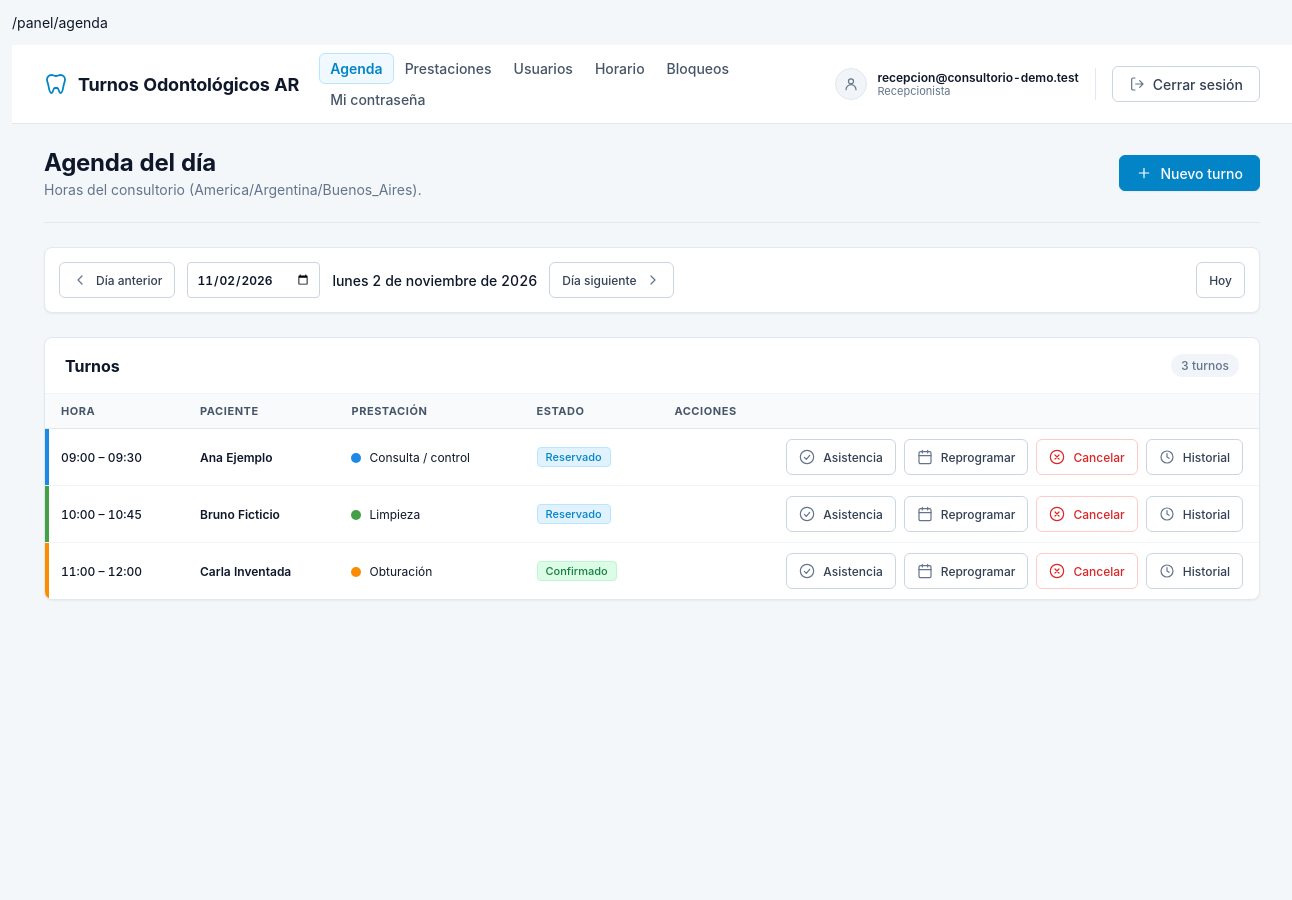
it: PanelCancelar: bordes › CAN-4b: la recarga falla después del 200
The image size is (1292, 900).
expect the text "lunes 2 de noviembre de 2026" is shown: met, box [332,272,537,288]
Click the button with aria-label "Cancelar el turno de Bruno Ficticio, 10:00".
click(1087, 514)  # box [1036,496,1138,532]
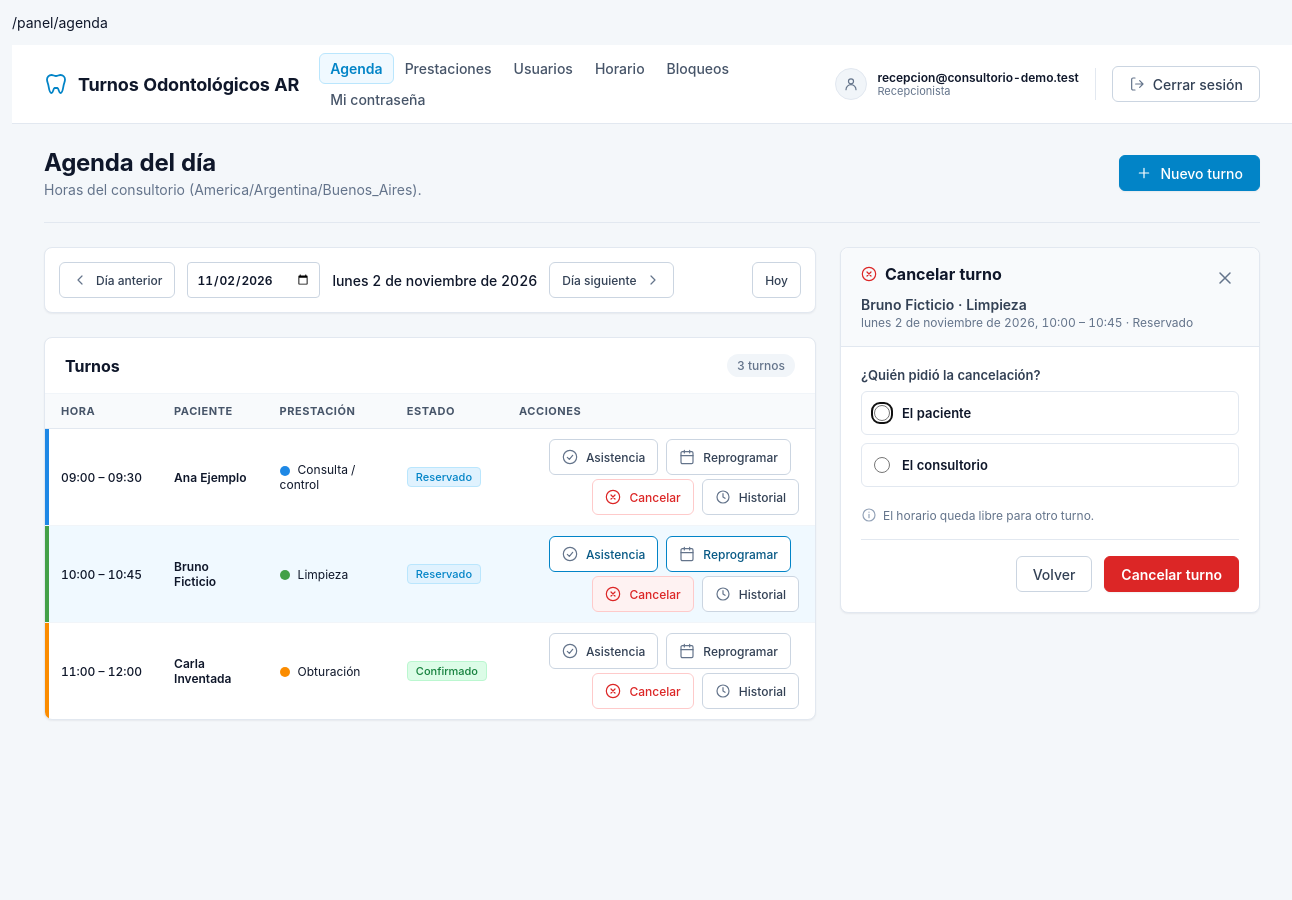
Click the radio button labelled "El paciente".
click(882, 413)  # box [874,405,890,421]
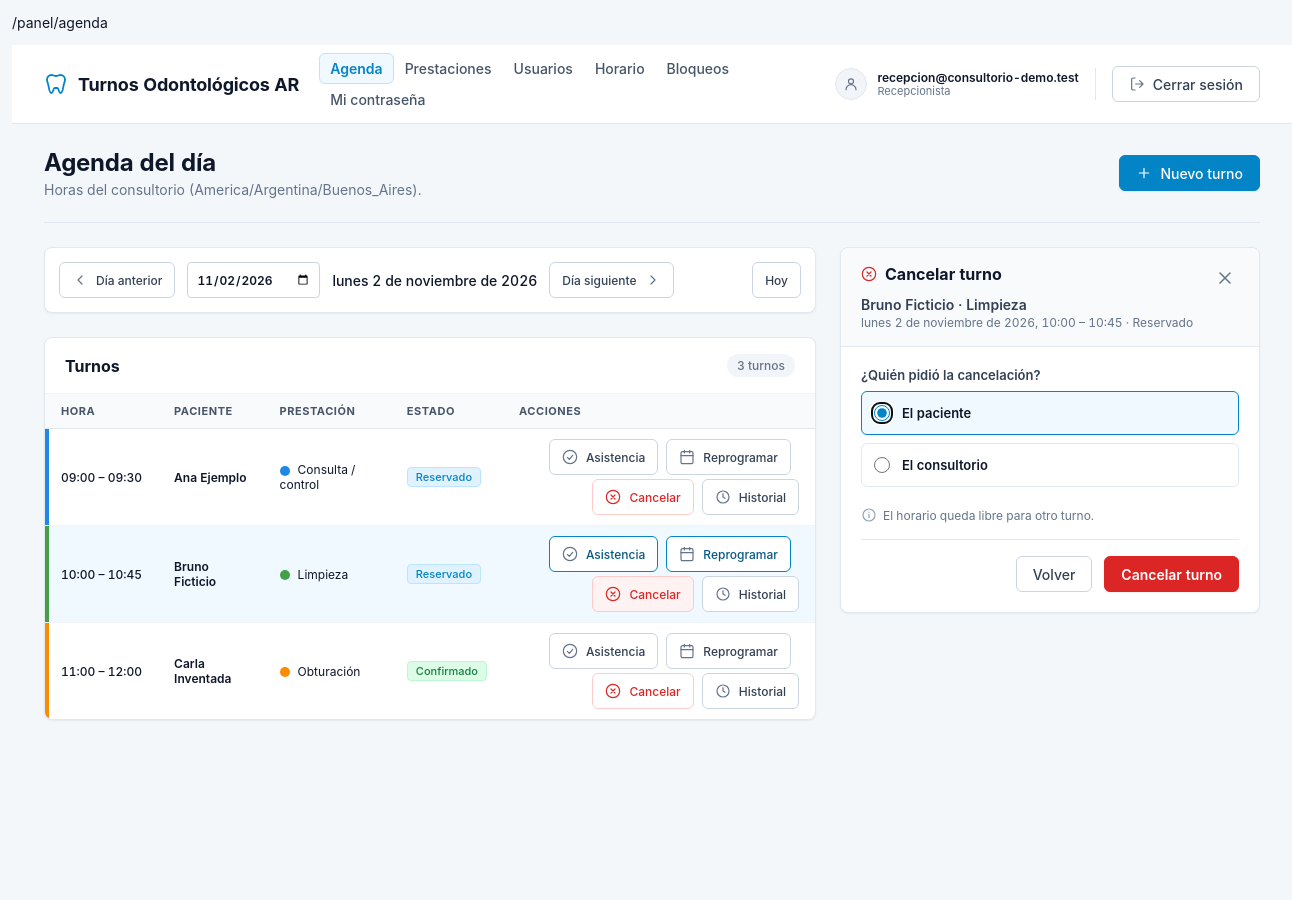
Click the button "Cancelar turno".
click(1172, 574)  # box [1104,556,1239,592]
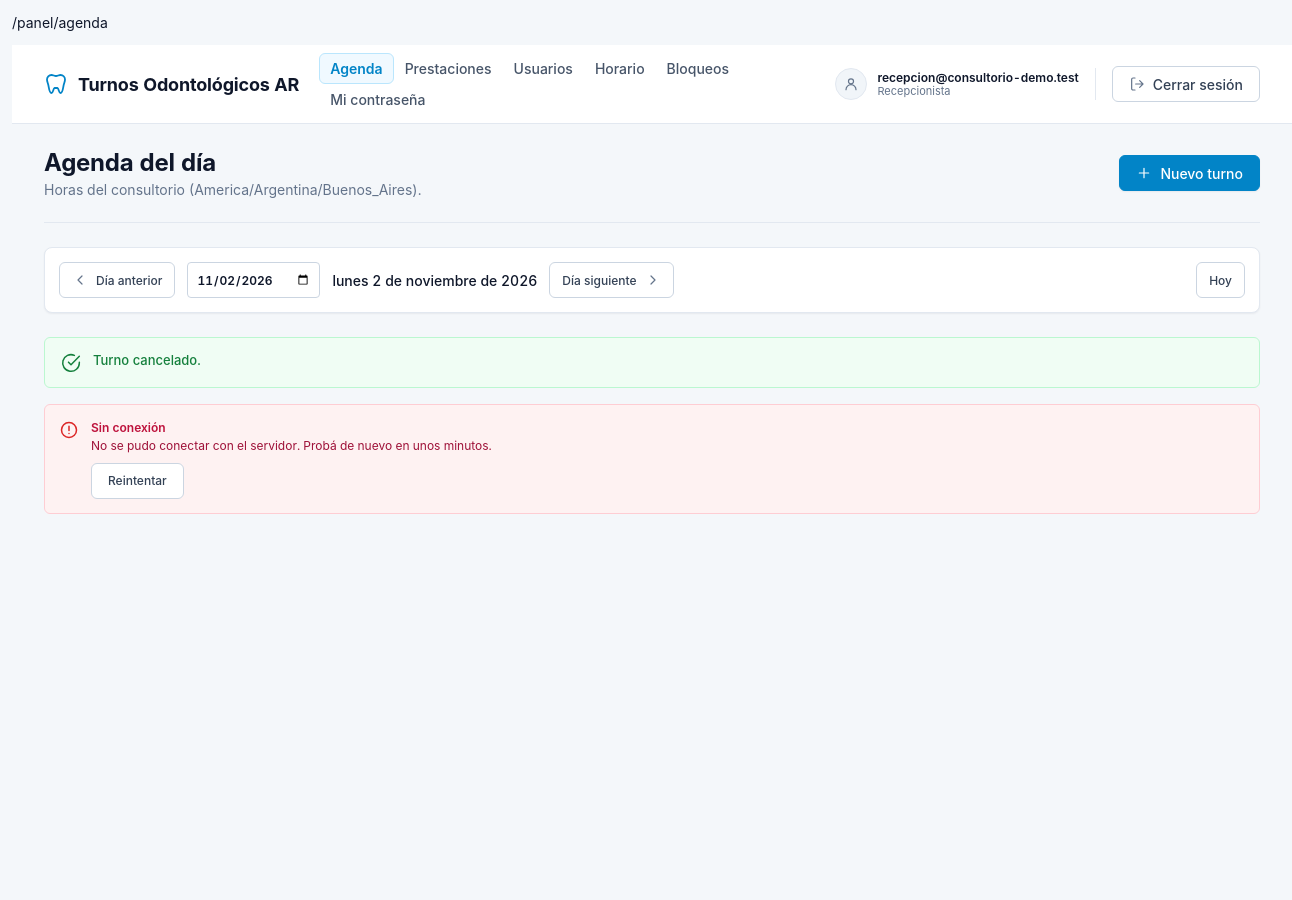
expect the text "Turno cancelado." is shown: met, box [93,352,201,368]
expect the message that starts with "Sin conexión" shows "No se pudo conectar con el servidor. Probá de nuevo en unos minutos.": met, box [91,438,492,453]
expect the heading "Cancelar turno" is gone: met
Click the button "Reintentar".
click(137, 481)  # box [91,463,184,499]
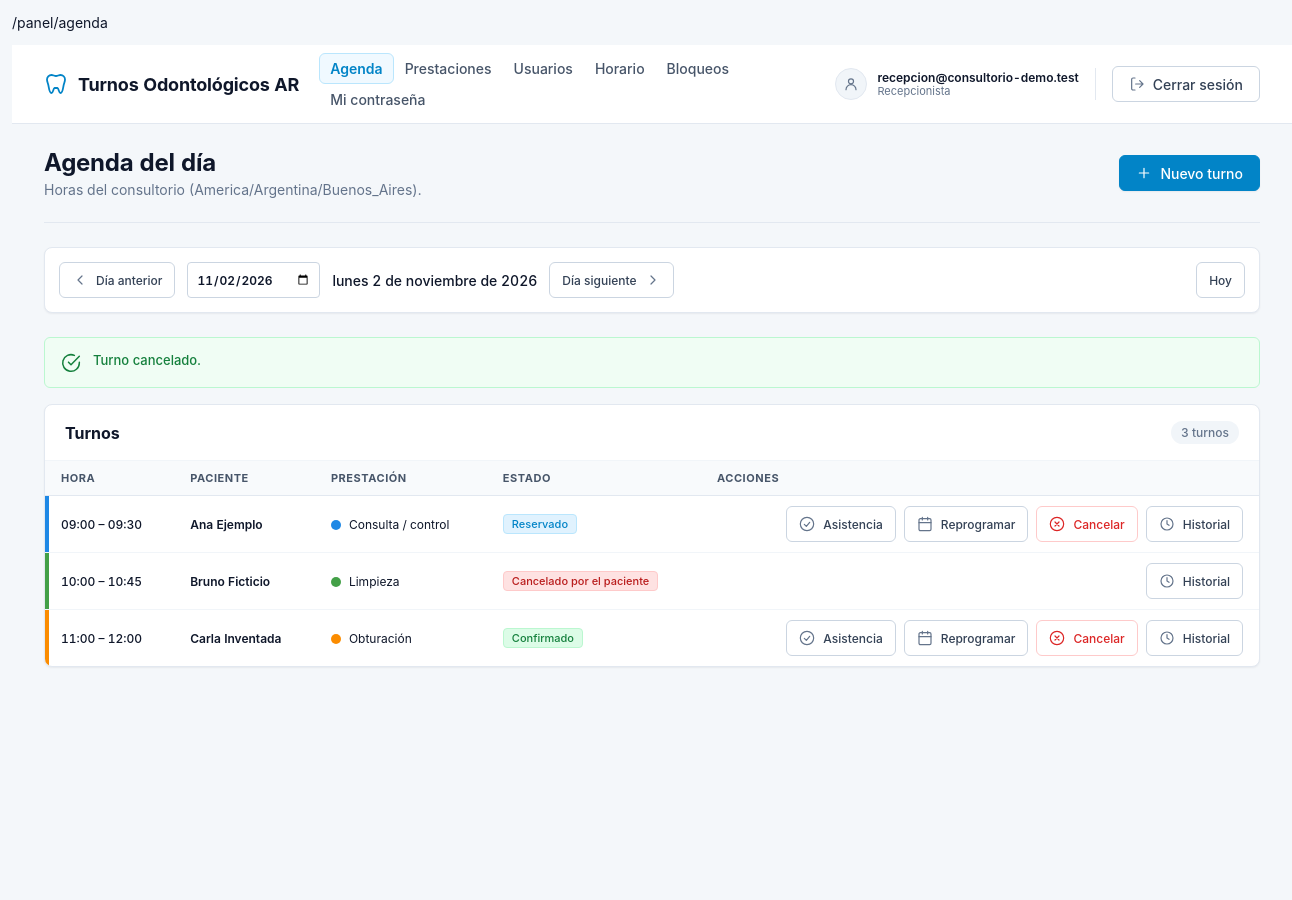
expect the text "Cancelado por el paciente" is shown: met, box [503,571,658,591]
